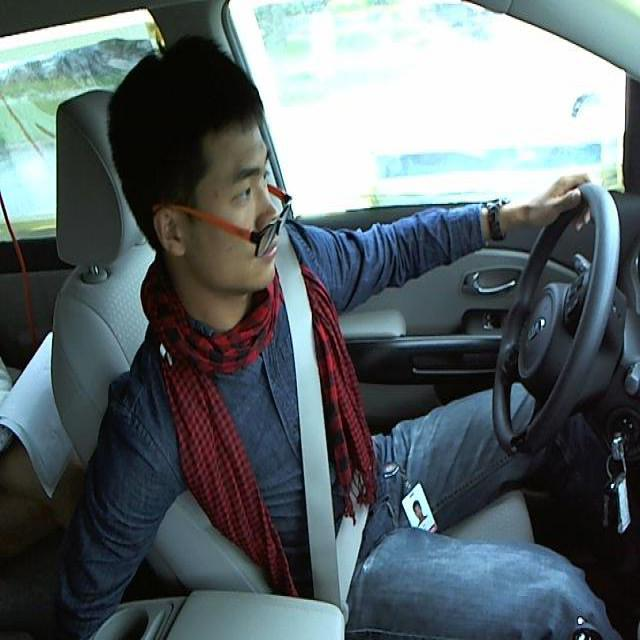seatbelt: (270, 280, 371, 604)
